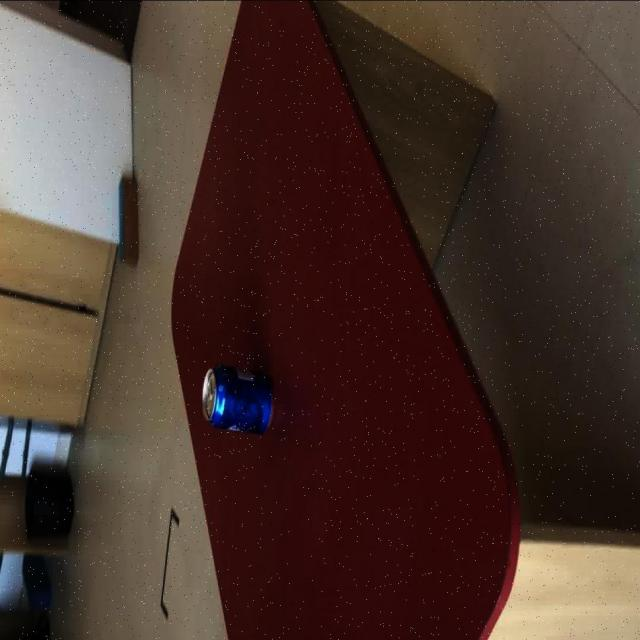Tonic: (201, 361, 274, 434)
